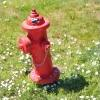a fire hydrant: (18, 9, 60, 84)
